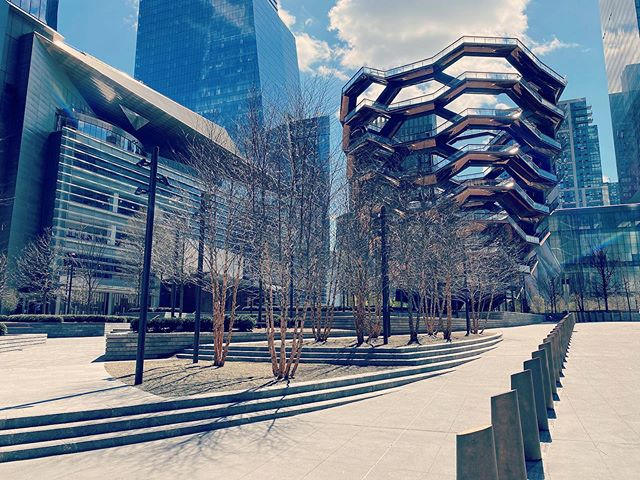building: (9, 41, 294, 304), (332, 68, 560, 285), (134, 5, 315, 160), (555, 93, 598, 278), (565, 216, 640, 316), (607, 1, 640, 198)
tree: (235, 94, 358, 395), (159, 174, 266, 366), (328, 187, 417, 337), (394, 196, 475, 344), (455, 214, 514, 341)
